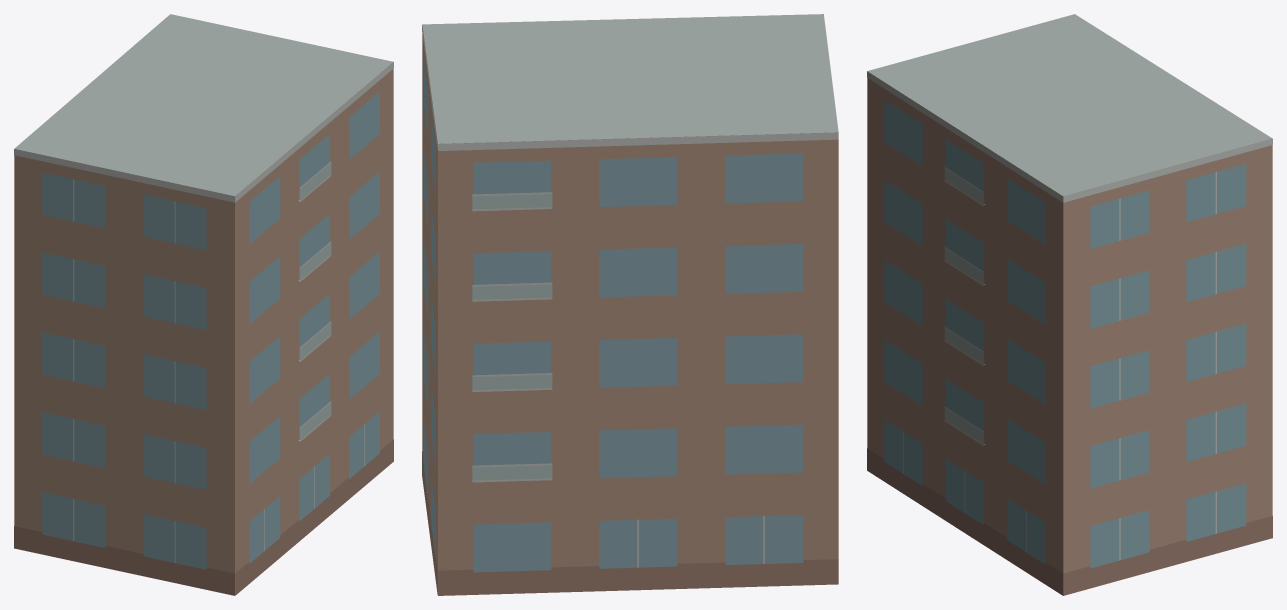
File: survey-upis-32892673.glb
3 views of the same model, side by side, from view 1: azimuth 30°, elevation 25°; view 2: azimuth 150°, elevation 25°; view 3: azimuth 270°, elevation 25° (orthographic). The views are drawn at different scales.
Visible parts, largest first — view 1: survey-upis-32892673.tmp; view 2: survey-upis-32892673.tmp; view 3: survey-upis-32892673.tmp.
Part boxes in pixels (x1,y1,x2,y2): survey-upis-32892673.tmp: (14,14,393,595); survey-upis-32892673.tmp: (422,14,838,595); survey-upis-32892673.tmp: (867,14,1272,595).
Size of the model in its own units: 14.89 by 15.2 by 14.
